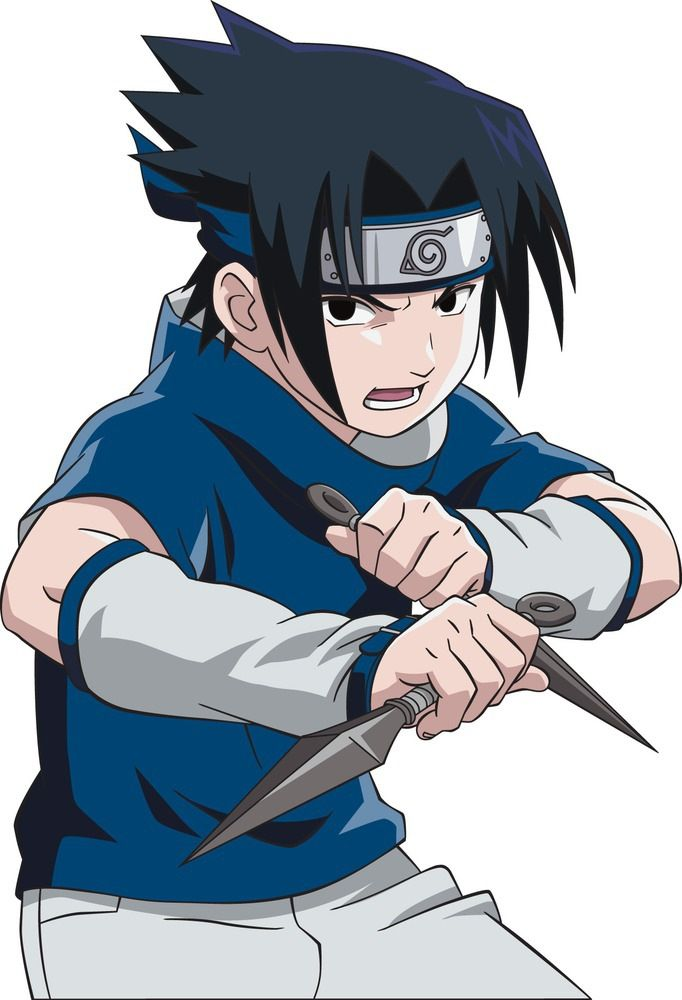sasuke: (195, 198, 509, 446)
